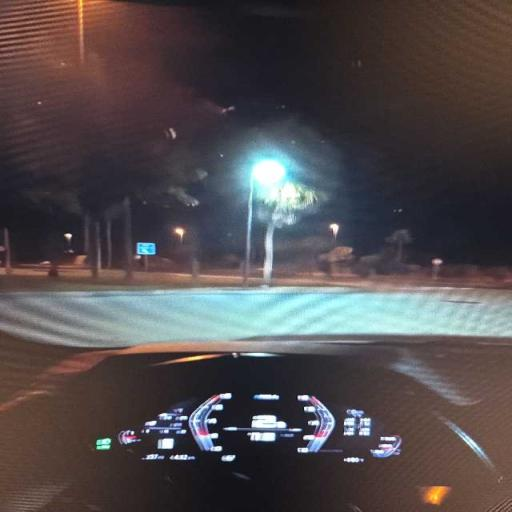lane: (0, 289, 511, 346)
